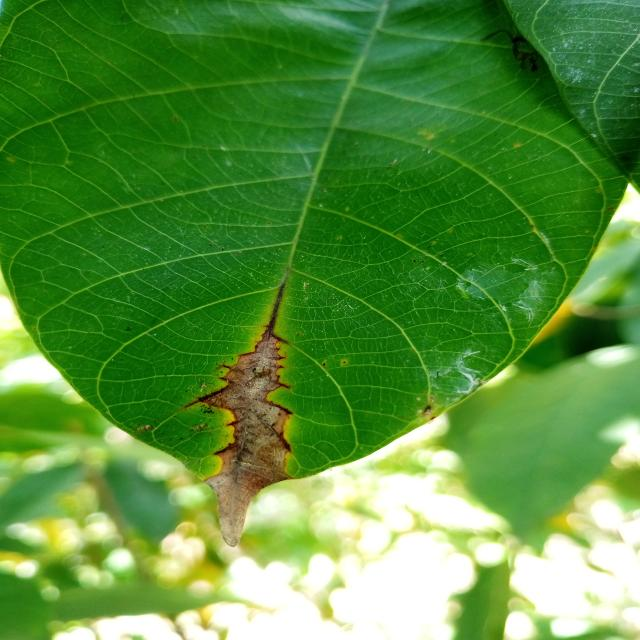Corynespora: (185, 286, 292, 546), (260, 284, 289, 344), (182, 387, 229, 408), (267, 423, 292, 452), (266, 400, 292, 414), (213, 442, 236, 455), (276, 376, 290, 392)
Leaf-Blight: (206, 338, 290, 547)
